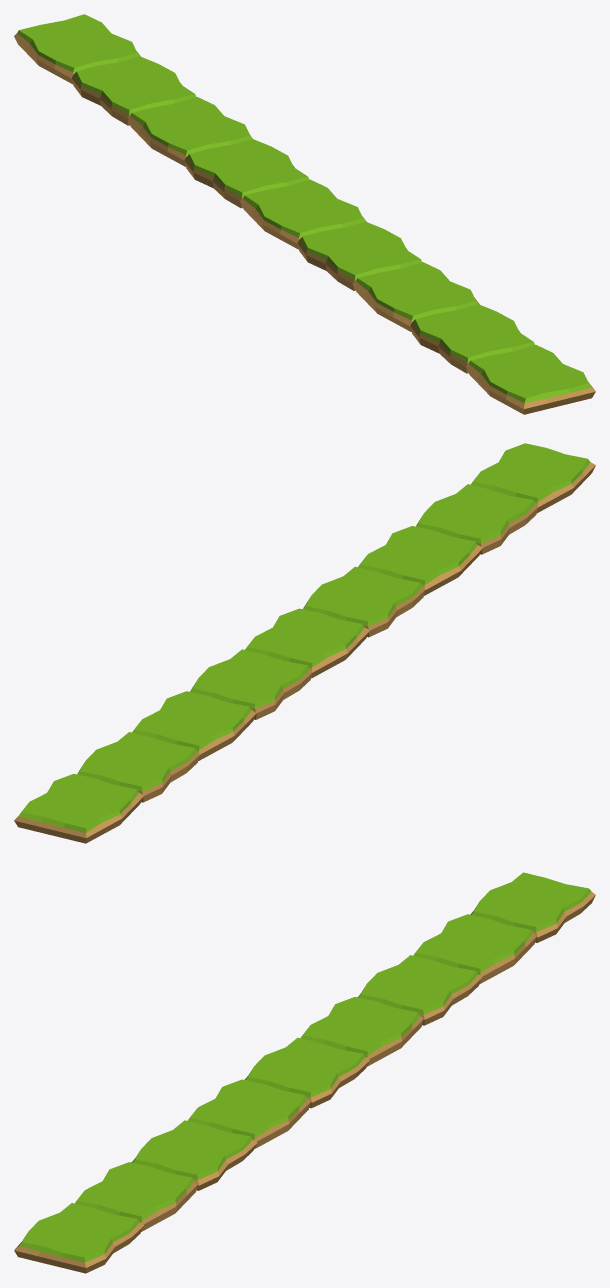
Rendered from Single tile.fbx.
3 renders of one model, top to bottom at view 1: azimuth 30°, elevation 25°; view 2: azimuth 150°, elevation 25°; view 3: azimuth 330°, elevation 25°, orthographic.
Parts seen in each view (by area): view 1: Single_Tile; view 2: Single_Tile; view 3: Single_Tile.
Part boxes in pixels (x1=…): Single_Tile: x1=14, y1=14, x2=595, y2=414; Single_Tile: x1=14, y1=443, x2=595, y2=843; Single_Tile: x1=14, y1=872, x2=595, y2=1273.
Size of the model in its own units: 486 by 80.62 by 5051.
